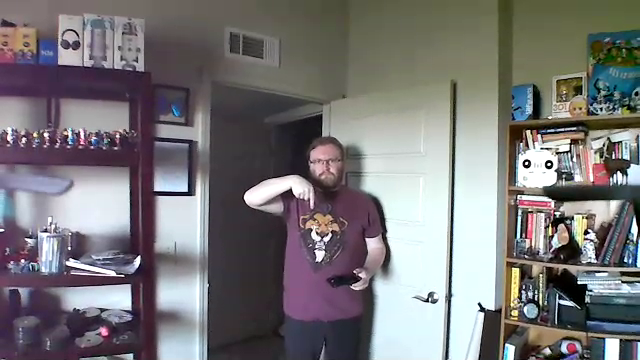down: (284, 164, 320, 215)
